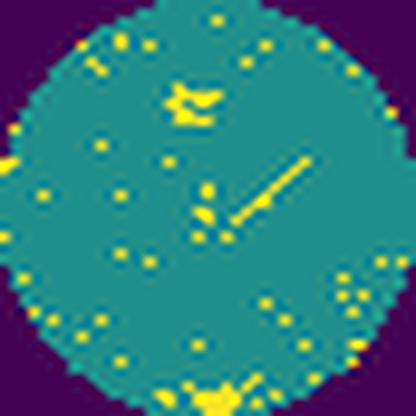Loc: (163, 81, 225, 124), (194, 376, 242, 416)
